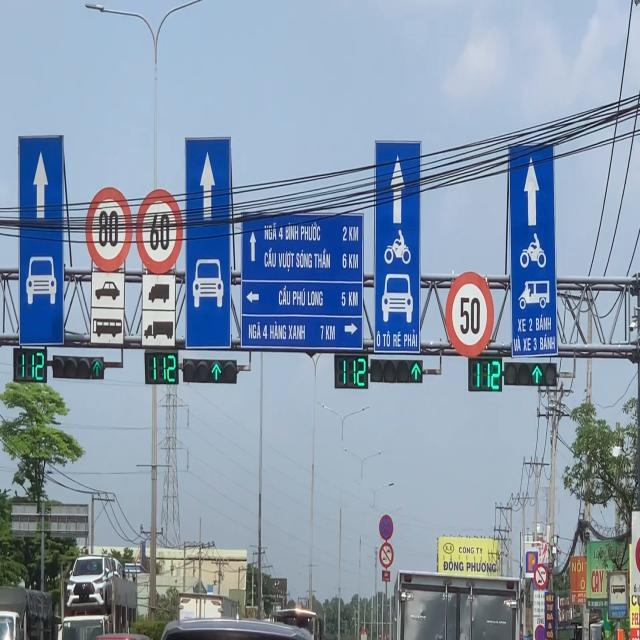bien_cam: (84, 182, 133, 274), (446, 268, 494, 358), (134, 188, 182, 273), (378, 514, 394, 542)
